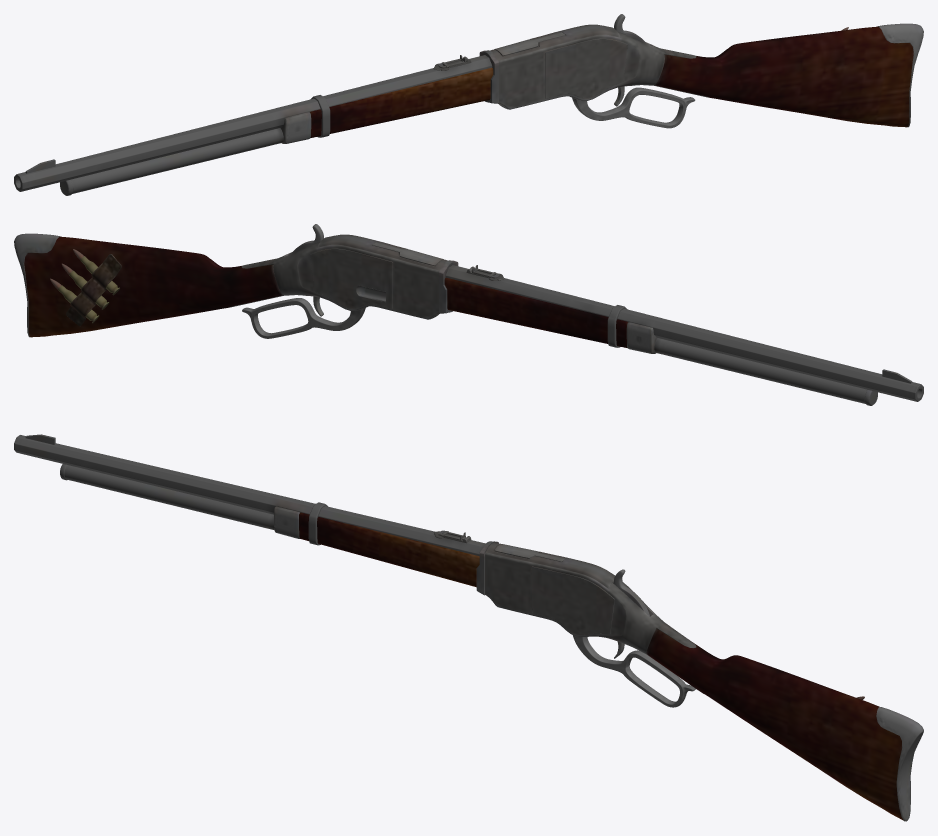
Rendered from rifle.glb.
The picture shows the model from 3 angles, top to bottom: view 1: azimuth 30°, elevation 25°; view 2: azimuth 150°, elevation 25°; view 3: azimuth 330°, elevation 25°; orthographic projection.
Parts seen in each view (by area): view 1: Plane_DefaultMaterial_0, Plane_002_DefaultMaterial_0, Cylinder_002_DefaultMaterial_0, Plane_003_DefaultMaterial_0, Cylinder_001_DefaultMaterial_0, Plane_004_DefaultMaterial_0, Plane_006_DefaultMaterial_0, Cube_DefaultMaterial_0; view 2: Plane_DefaultMaterial_0, Plane_002_DefaultMaterial_0, Cylinder_002_DefaultMaterial_0, Plane_003_DefaultMaterial_0, Cylinder_001_DefaultMaterial_0, Plane_004_DefaultMaterial_0, Plane_001_DefaultMaterial_0, Plane_006_DefaultMaterial_0, Cube_DefaultMaterial_0; view 3: Plane_DefaultMaterial_0, Plane_002_DefaultMaterial_0, Cylinder_002_DefaultMaterial_0, Plane_003_DefaultMaterial_0, Cylinder_001_DefaultMaterial_0, Plane_004_DefaultMaterial_0.
Boxes of the visible parts, <box> form: Plane_DefaultMaterial_0: <box>655,23,923,127</box>; Plane_002_DefaultMaterial_0: <box>479,24,708,109</box>; Cylinder_002_DefaultMaterial_0: <box>14,55,492,191</box>; Plane_003_DefaultMaterial_0: <box>310,67,493,137</box>; Cylinder_001_DefaultMaterial_0: <box>60,128,283,195</box>; Plane_004_DefaultMaterial_0: <box>572,87,695,128</box>; Plane_006_DefaultMaterial_0: <box>280,112,311,143</box>; Cube_DefaultMaterial_0: <box>311,95,330,137</box>; Plane_DefaultMaterial_0: <box>14,233,282,337</box>; Plane_002_DefaultMaterial_0: <box>229,234,458,319</box>; Cylinder_002_DefaultMaterial_0: <box>445,265,923,401</box>; Plane_003_DefaultMaterial_0: <box>444,277,627,347</box>; Cylinder_001_DefaultMaterial_0: <box>654,338,877,405</box>; Plane_004_DefaultMaterial_0: <box>242,298,365,338</box>; Plane_001_DefaultMaterial_0: <box>66,254,121,326</box>; Plane_006_DefaultMaterial_0: <box>626,322,657,353</box>; Cube_DefaultMaterial_0: <box>607,305,626,347</box>; Plane_DefaultMaterial_0: <box>646,629,923,821</box>; Plane_002_DefaultMaterial_0: <box>476,541,703,693</box>; Cylinder_002_DefaultMaterial_0: <box>14,434,485,556</box>; Plane_003_DefaultMaterial_0: <box>299,512,479,587</box>; Cylinder_001_DefaultMaterial_0: <box>60,464,274,529</box>; Plane_004_DefaultMaterial_0: <box>573,635,695,707</box>.
Bounding box in the file's own units: 0.9601 × 0.1843 × 0.0361.
1 material, 1 textured.
